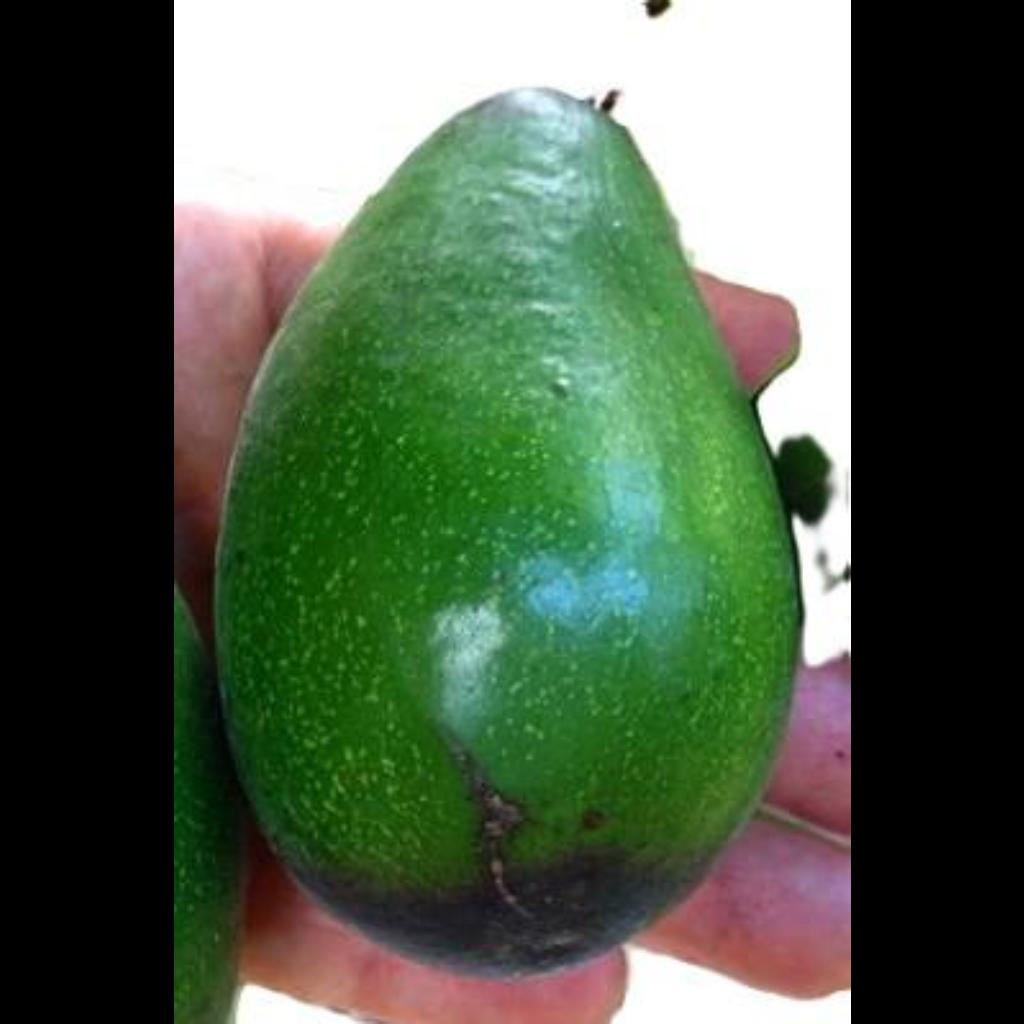Healthy: (214, 60, 812, 976)
